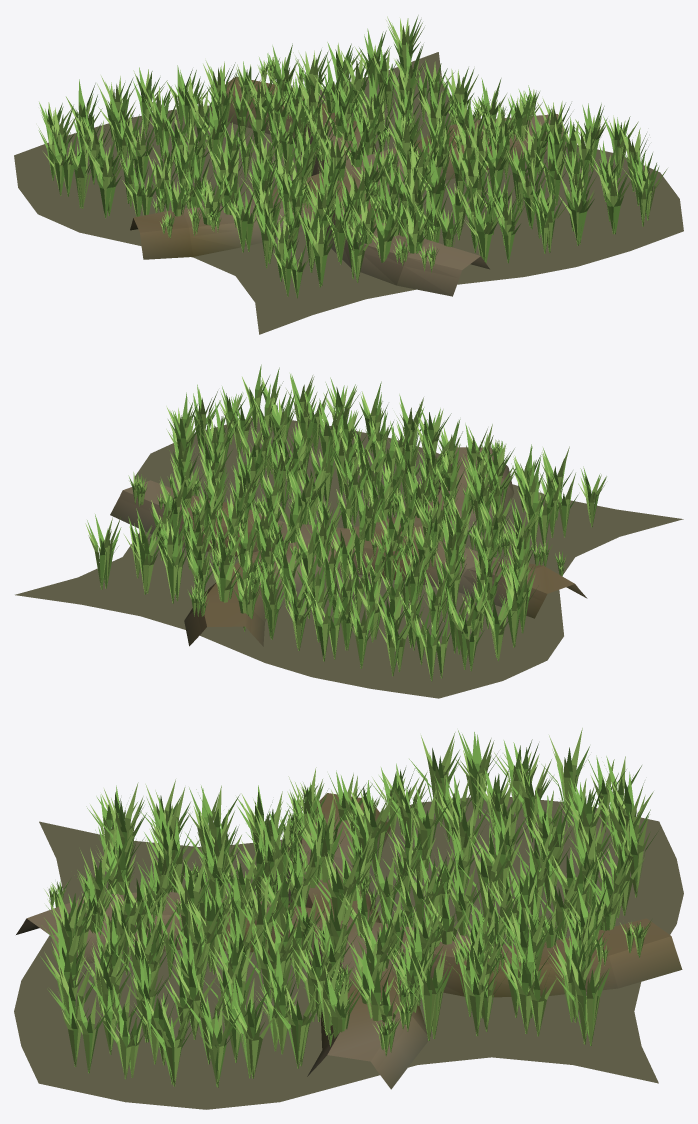
The model's file is KeralaPaddy_Dense_v3.glb.
3 views of the same model, one above another, from view 1: azimuth 30°, elevation 25°; view 2: azimuth 150°, elevation 25°; view 3: azimuth 270°, elevation 25° (orthographic). The views are drawn at different scales.
Parts seen in each view (by area): view 1: Paddy_Rice_Dense_A, RiceClump_1 (×17), RiceClump_0 (×14), Varambu_02, Varambu_13, RiceClump_2 (×7); view 2: Paddy_Rice_Dense_A, Varambu_13, RiceClump_1 (×12), Varambu_02, RiceClump_0 (×8), RiceClump_2 (×5); view 3: Paddy_Rice_Dense_A, RiceClump_1 (×42), RiceClump_0 (×30), RiceClump_2 (×30), Varambu_02, Varambu_13.
Boxes of the visible parts, box(x1,y1,x2,y2) form: Paddy_Rice_Dense_A: box(14, 52, 683, 334); RiceClump_1 (×17): box(40, 16, 599, 287); RiceClump_0 (×14): box(43, 68, 607, 264); Varambu_02: box(208, 76, 489, 296); Varambu_13: box(130, 114, 567, 259); RiceClump_2 (×7): box(69, 94, 638, 252); Paddy_Rice_Dense_A: box(15, 416, 683, 698); Varambu_13: box(110, 480, 587, 618); RiceClump_1 (×12): box(85, 423, 578, 669); Varambu_02: box(184, 447, 514, 646); RiceClump_0 (×8): box(129, 523, 514, 676); RiceClump_2 (×5): box(157, 475, 548, 681); Paddy_Rice_Dense_A: box(14, 797, 683, 1109); RiceClump_1 (×42): box(44, 728, 646, 1086); RiceClump_0 (×30): box(40, 739, 607, 1079); RiceClump_2 (×30): box(58, 730, 658, 1087); Varambu_02: box(16, 892, 682, 997); Varambu_13: box(276, 793, 427, 1089).
Bounding box in the file's own units: 4.8 × 0.6513 × 4.32.
